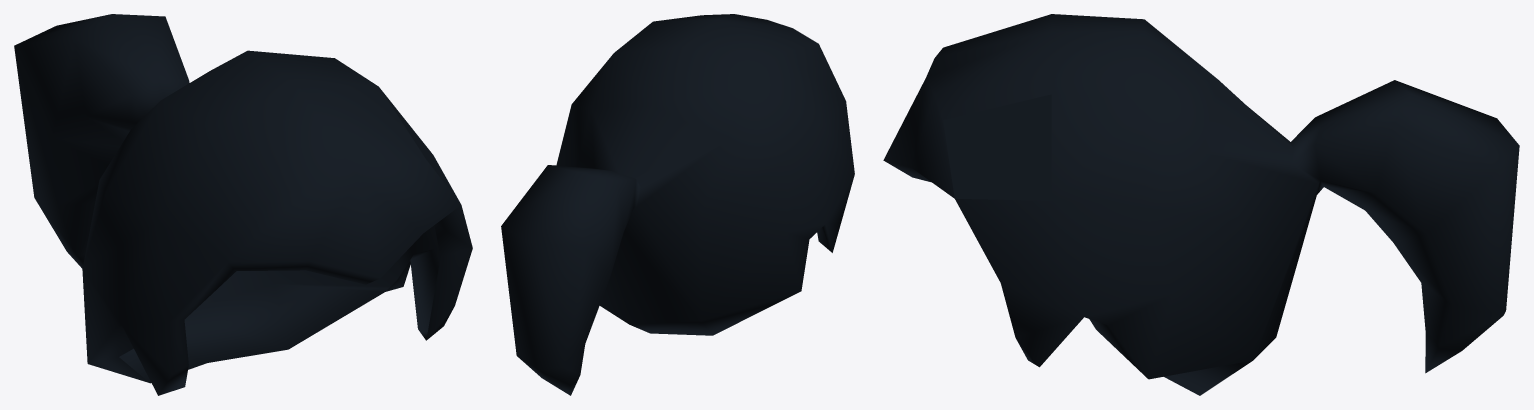
File: HairPonytailBlack.fbx
3 renders of one model, left to right at view 1: azimuth 30°, elevation 25°; view 2: azimuth 150°, elevation 25°; view 3: azimuth 270°, elevation 25°, orthographic. The views are drawn at different scales.
Visible parts, largest first — view 1: HairPonytailBlack; view 2: HairPonytailBlack; view 3: HairPonytailBlack.
Part boxes in pixels (x1,y1,x2,y2): HairPonytailBlack: (14, 14, 472, 395); HairPonytailBlack: (501, 14, 854, 395); HairPonytailBlack: (883, 14, 1519, 395).
Size of the model in its own units: 50 by 52.63 by 88.87.
